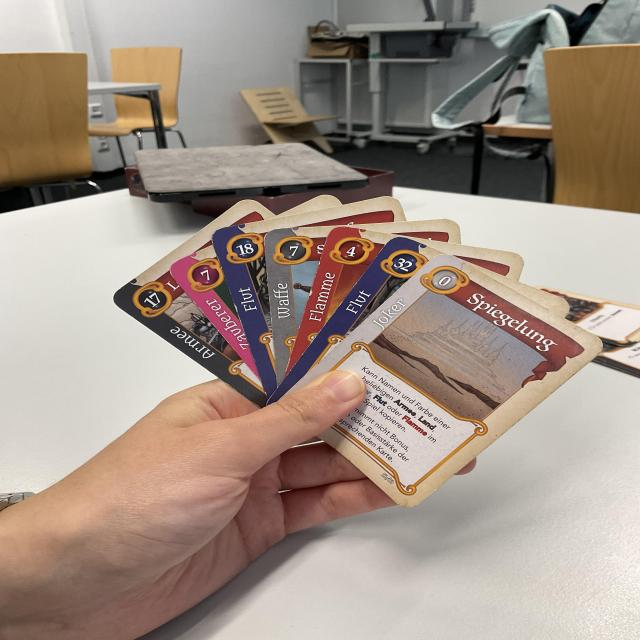Collector: (166, 245, 260, 381)
Fire Elemental: (285, 225, 396, 377)
Great Flood: (265, 233, 439, 404)
Light Cavalry: (108, 263, 269, 408)
Mirage: (282, 250, 613, 512)
Swamp: (210, 221, 277, 397)
Sword of Keth: (266, 226, 329, 387)
